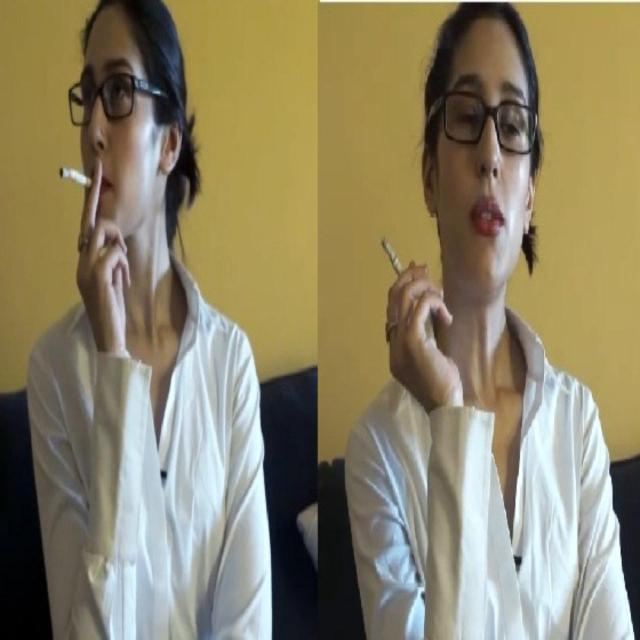cigarette: (371, 222, 431, 330), (43, 152, 97, 198)
